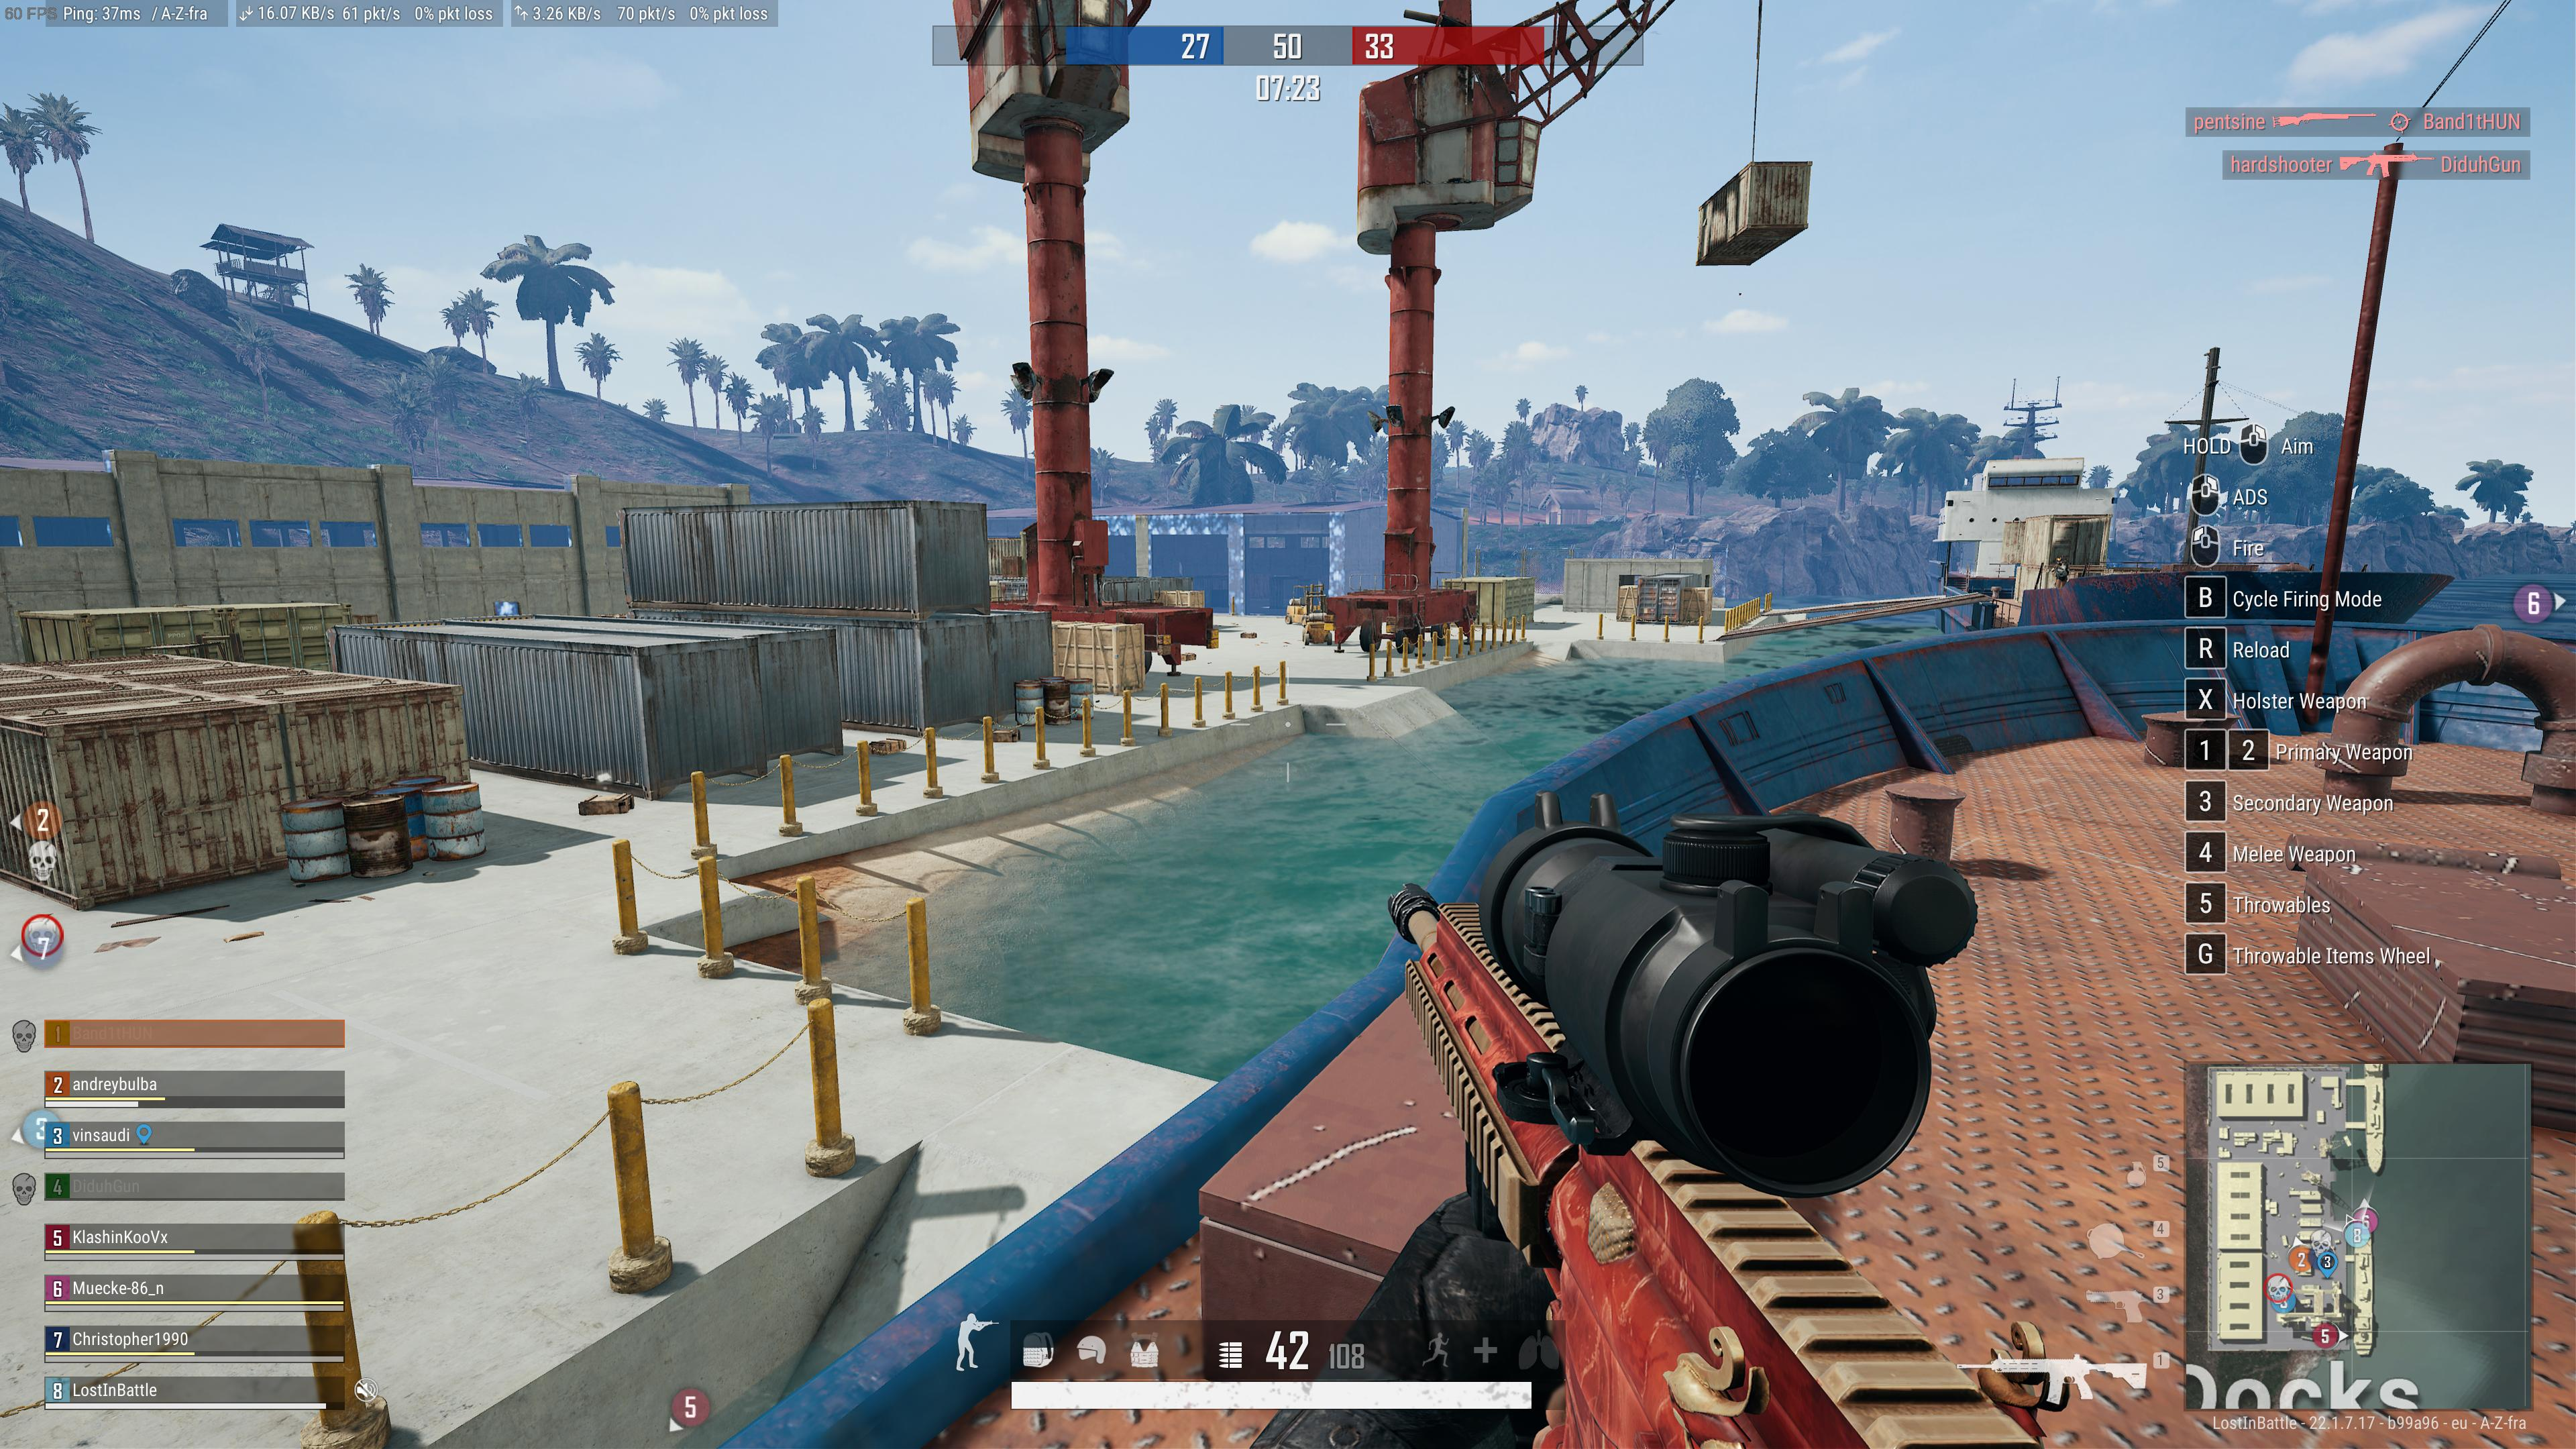enemy: (2051, 556, 2068, 587)
enemy_head: (2054, 556, 2063, 566)
